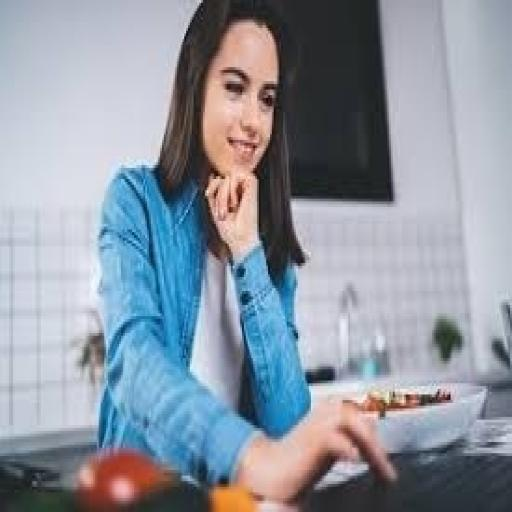using_laptop: (255, 314, 512, 512)
